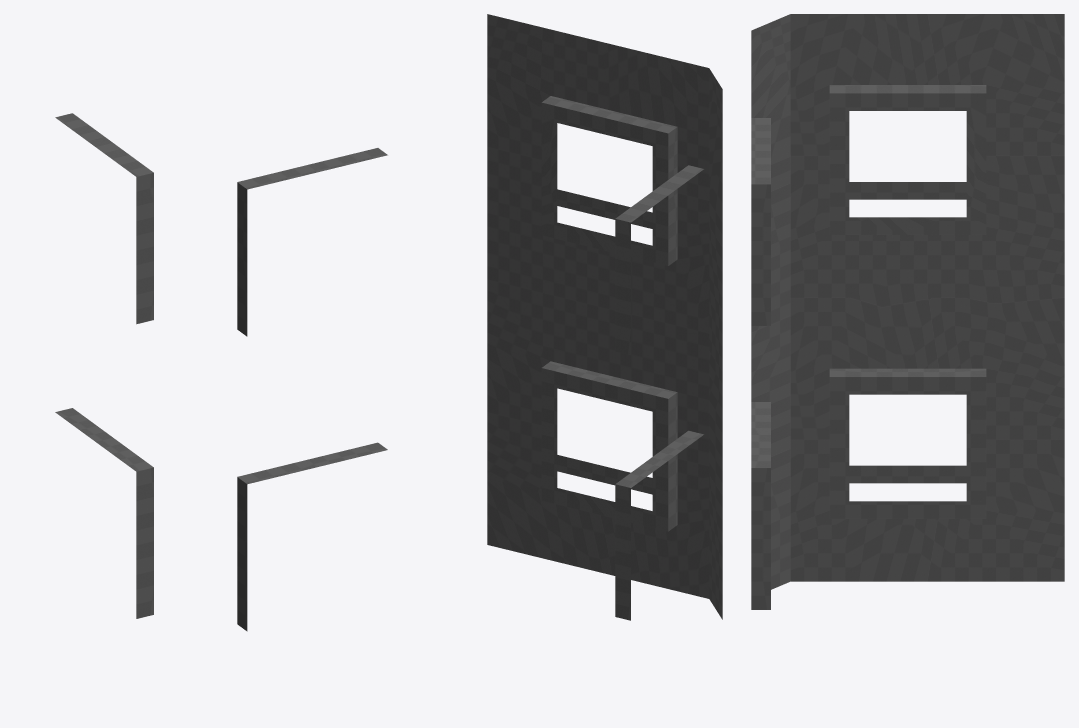
The picture shows the model from 3 angles, left to right: view 1: azimuth 30°, elevation 25°; view 2: azimuth 150°, elevation 25°; view 3: azimuth 270°, elevation 25°; orthographic projection. The views are drawn at different scales.
Parts seen in each view (by area): view 1: 4; view 2: 4; view 3: 4.
Boxes of the visible parts, bbox=[...] form: 4: bbox=[55, 113, 387, 631]; 4: bbox=[487, 14, 722, 620]; 4: bbox=[751, 14, 1064, 609].
Bounding box in the file's own units: 2 × 4 × 2.
2 materials, 2 textured.
